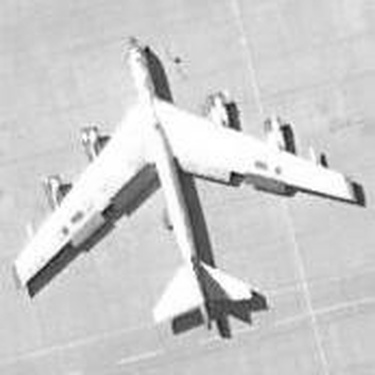airplane: (4, 32, 365, 346)
